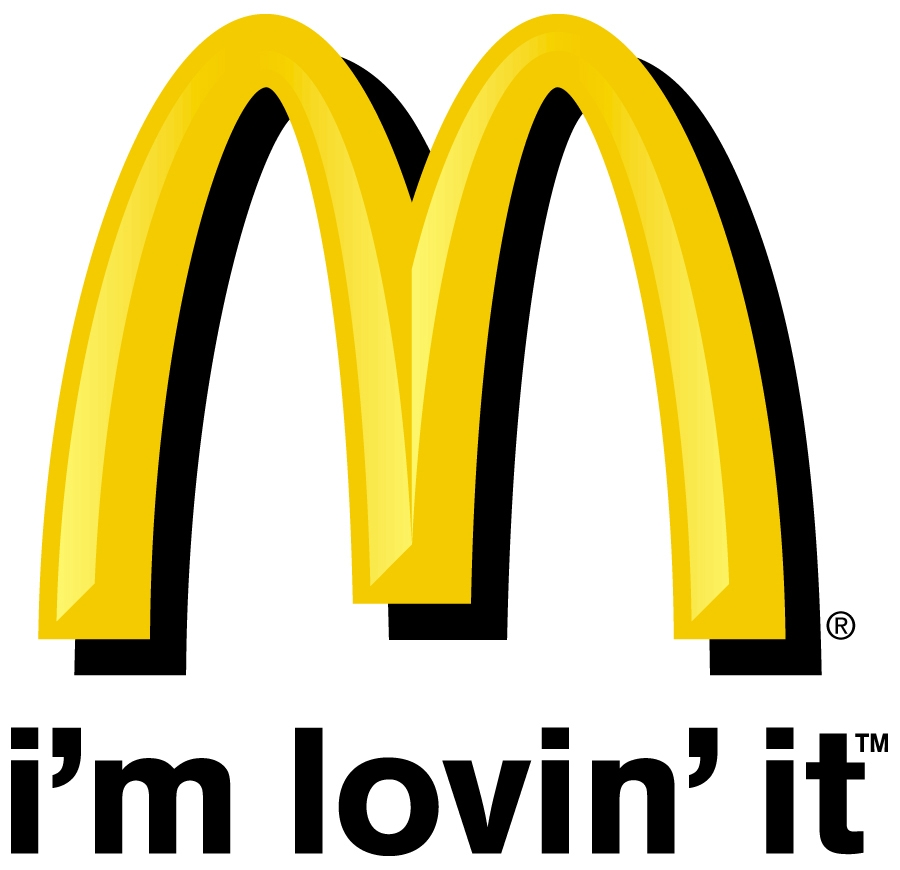mcdonalds: (42, 9, 830, 673), (42, 9, 793, 645)
